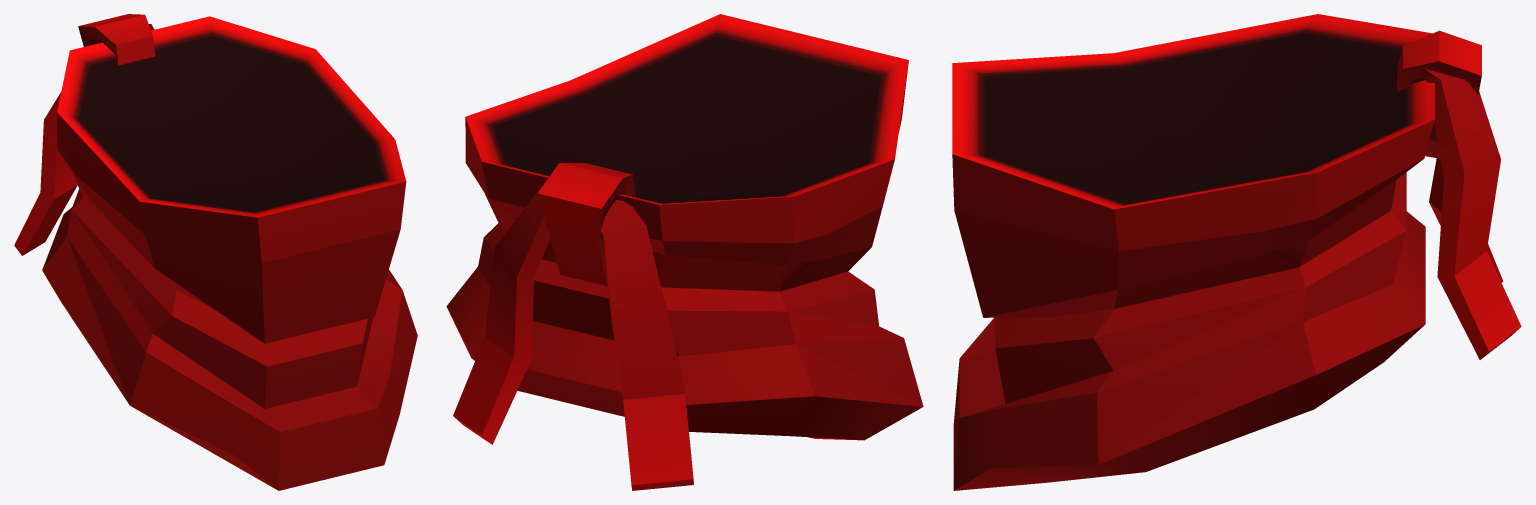
File: FaceMask_M.fbx
The picture shows the model from 3 angles, left to right: view 1: azimuth 30°, elevation 25°; view 2: azimuth 150°, elevation 25°; view 3: azimuth 270°, elevation 25°; orthographic projection. The views are drawn at different scales.
Visible parts, largest first — view 1: FaceMask_M, FaceMask_M_NeckWrap; view 2: FaceMask_M, FaceMask_M_NeckWrap; view 3: FaceMask_M, FaceMask_M_NeckWrap.
Part boxes in pixels (bbox=[...]): FaceMask_M: bbox=[14, 14, 406, 343]; FaceMask_M_NeckWrap: bbox=[42, 189, 417, 490]; FaceMask_M: bbox=[453, 14, 908, 490]; FaceMask_M_NeckWrap: bbox=[446, 223, 923, 440]; FaceMask_M: bbox=[952, 14, 1521, 359]; FaceMask_M_NeckWrap: bbox=[953, 172, 1425, 490].
Bounding box in the file's own units: 22.04 × 23.29 × 29.84.
